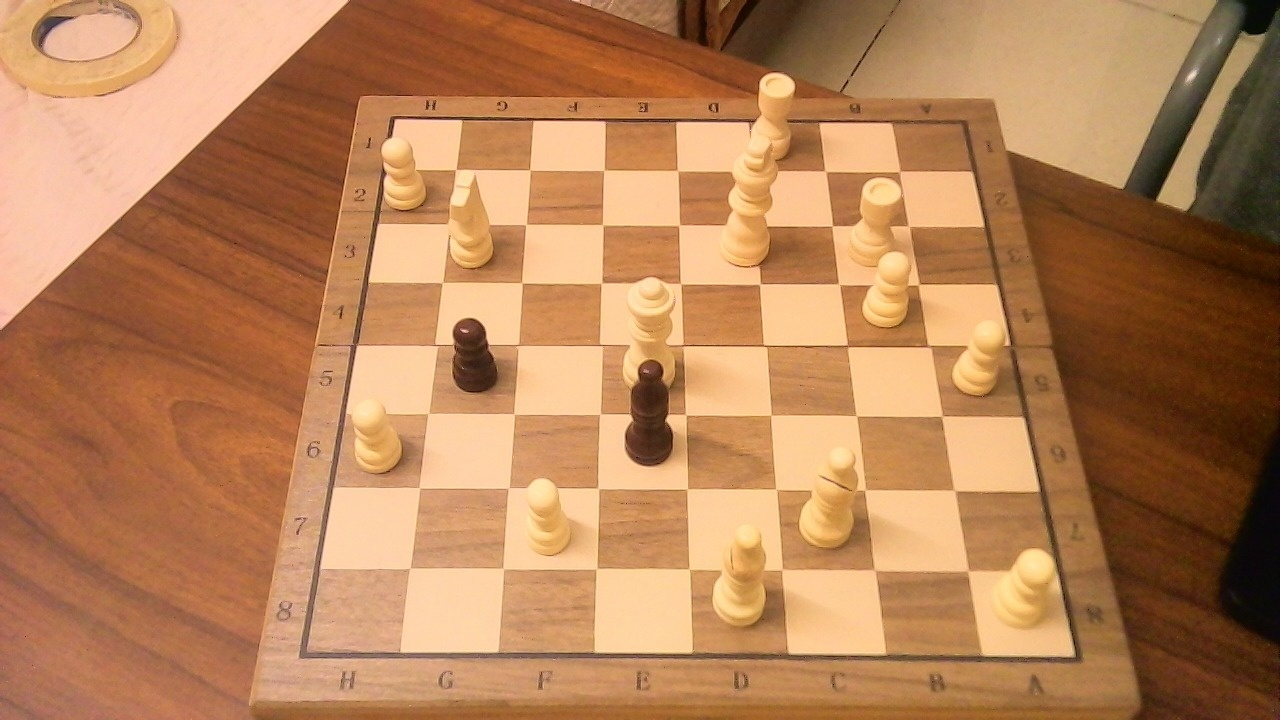B: (792, 433, 870, 553), (702, 510, 779, 631)
K: (711, 121, 789, 272)
N: (443, 161, 504, 273)
P: (986, 538, 1066, 633), (946, 310, 1014, 399), (513, 468, 578, 560), (854, 242, 921, 331), (343, 389, 411, 476), (377, 129, 433, 212)
Q: (611, 265, 686, 398)
R: (843, 165, 911, 273), (746, 62, 803, 163)
b: (613, 346, 685, 471)
p: (442, 306, 508, 396)
